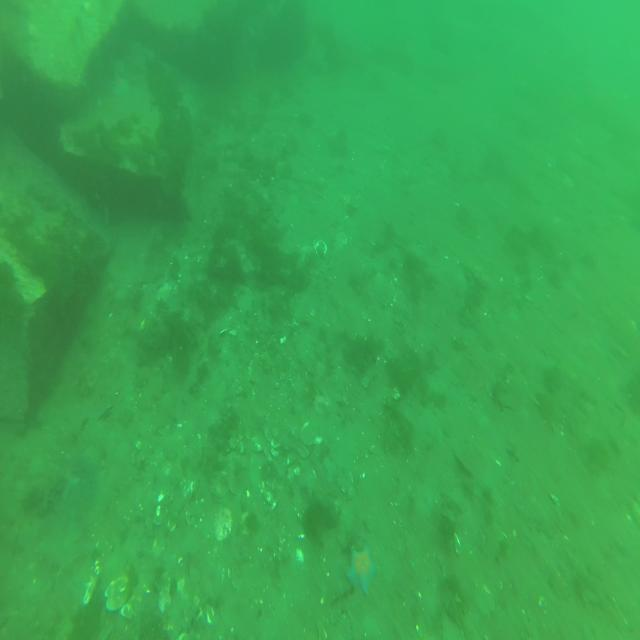starfish: (344, 544, 380, 595)
